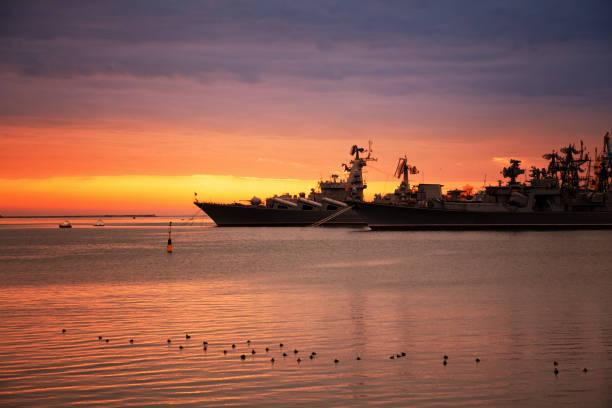MIL_Ship: (346, 165, 608, 229), (192, 145, 370, 226)
